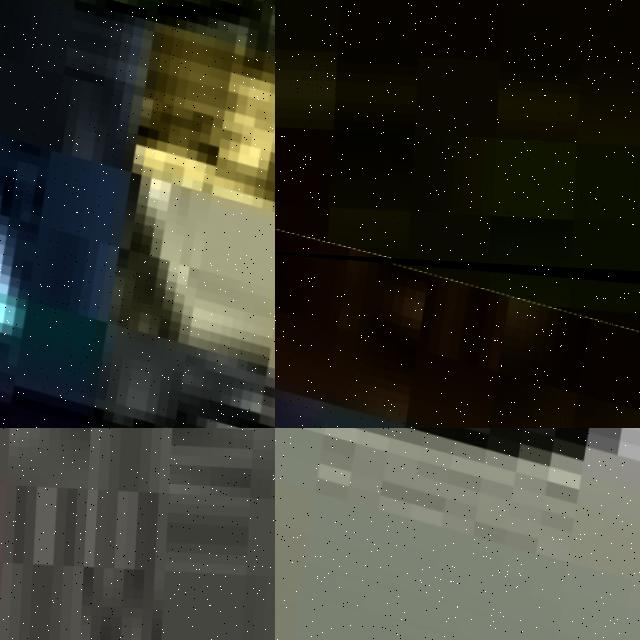0: (0, 0, 275, 428), (275, 249, 640, 428)
drone: (275, 428, 640, 640)
